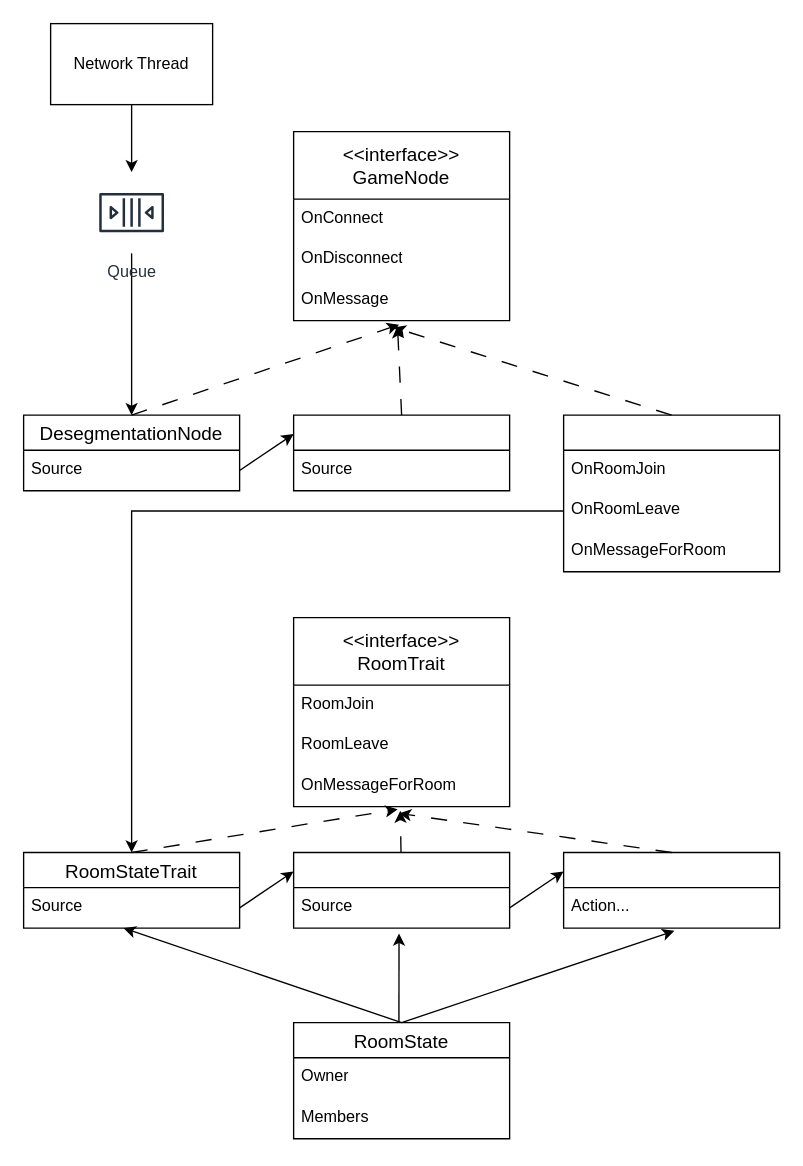
The diagram is 803 pixels wide and 1166 high, and some of its shapes have lost their labels. The box of each missing label's shape, as (x1, y1, x2, y2) in pixels:
AuthNode: (292, 414, 510, 491)
ChatTrait: (292, 851, 510, 928)
GameTrait: (562, 851, 780, 928)
RoomNode: (562, 414, 780, 572)
